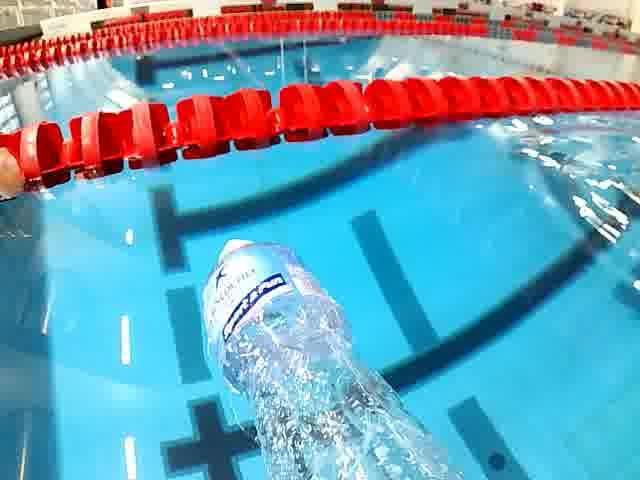Bottle: (195, 228, 469, 480)
